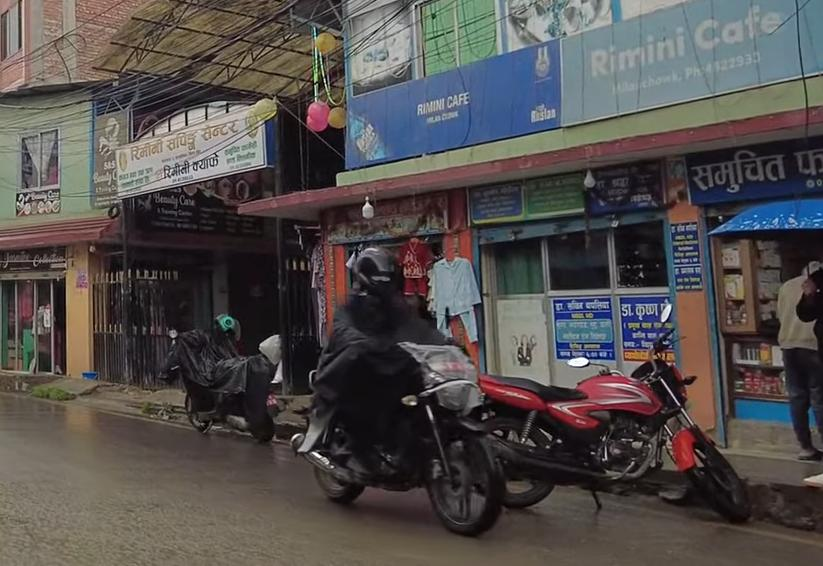bike: (480, 321, 758, 525), (303, 334, 510, 538), (173, 324, 283, 442)
